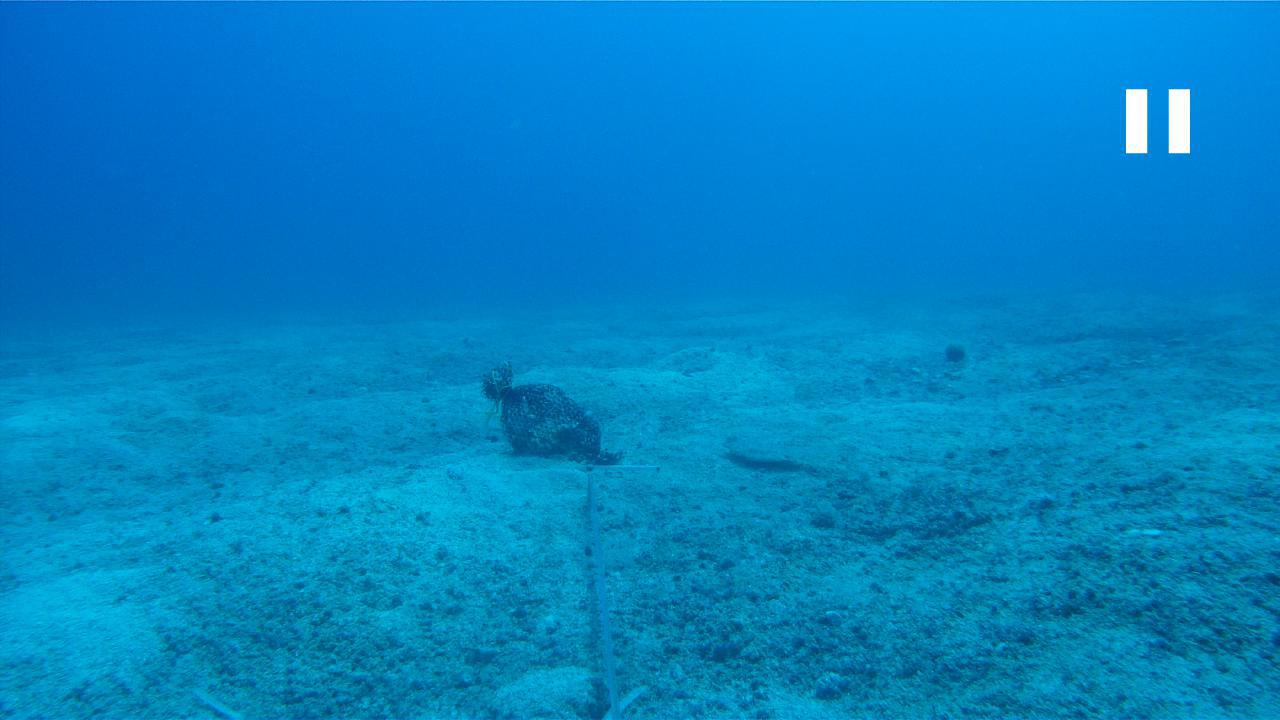bothus: (714, 428, 830, 464)
